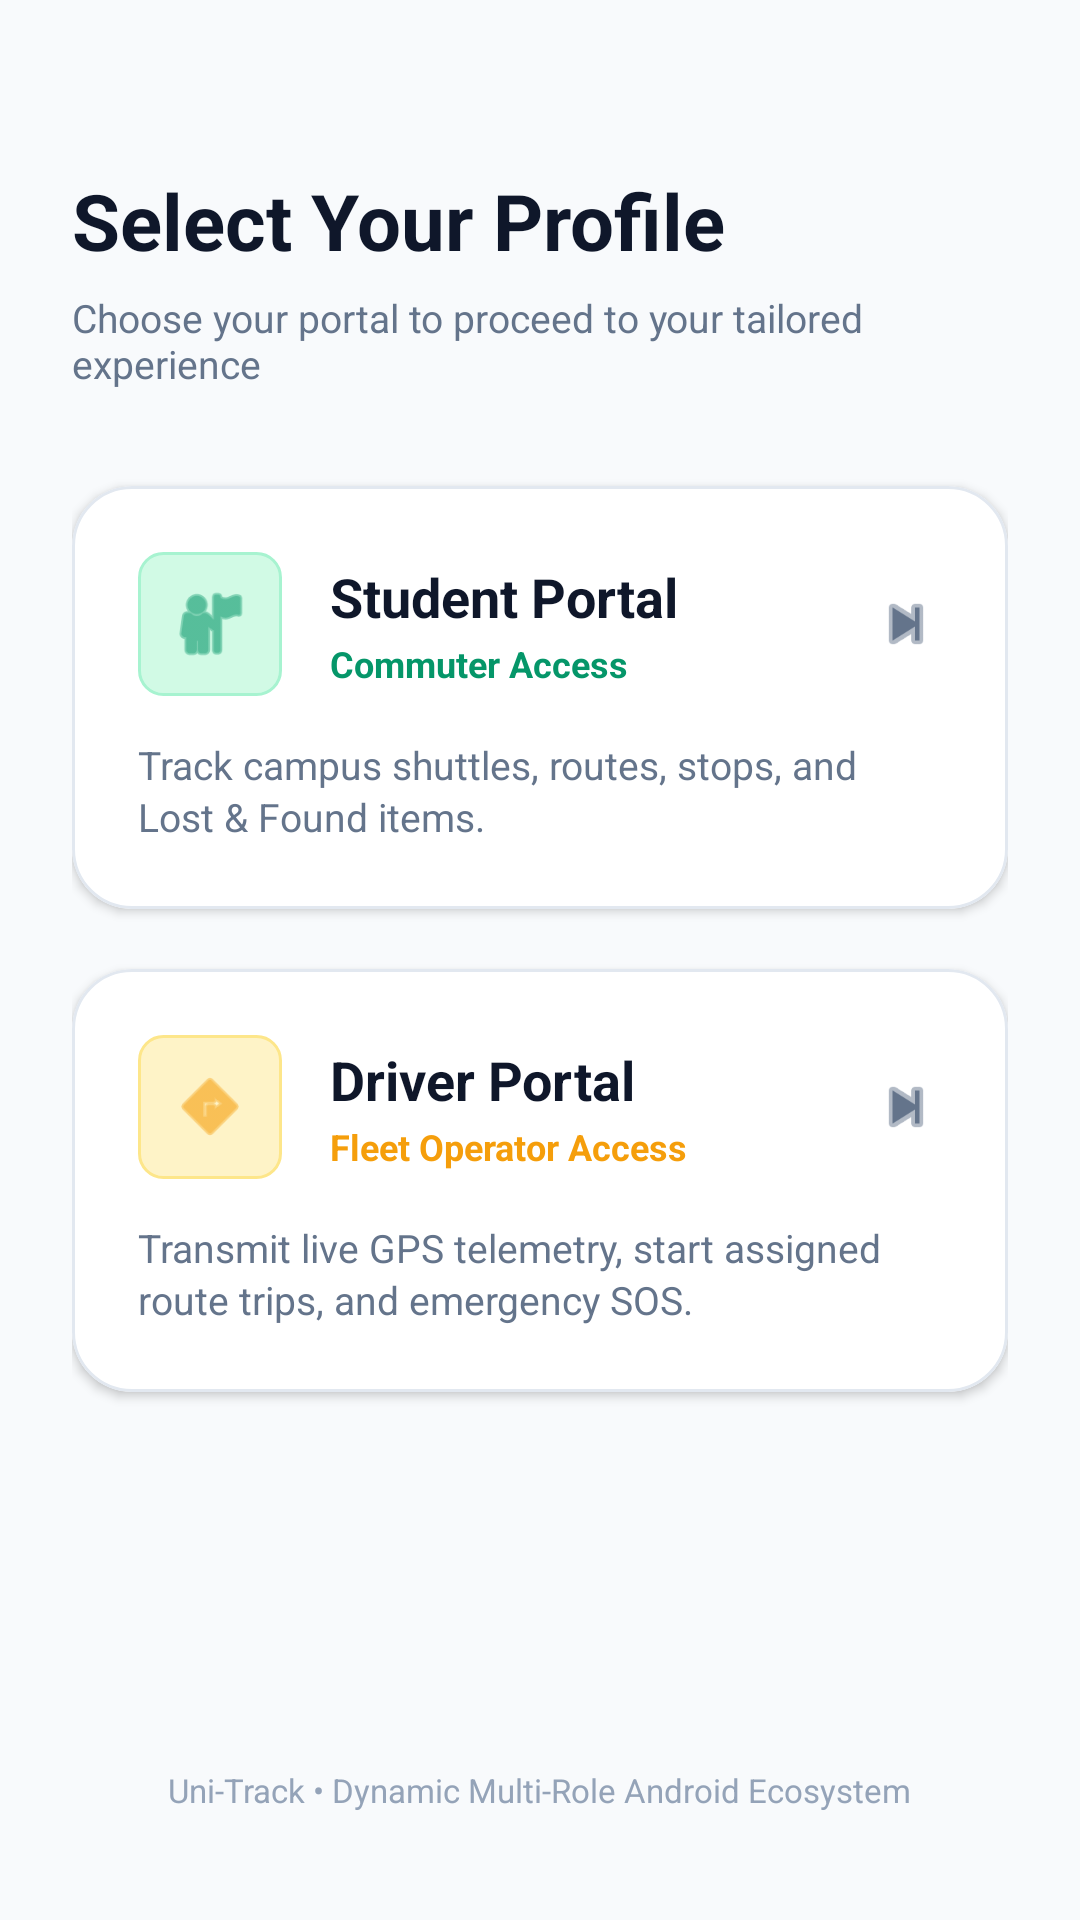

Where icons sit on this 1080px×1920px app screen, as (left=x1, top=y1, right=x2, bottom=y2):
directions: (left=138, top=1035, right=282, bottom=1179)
next: (left=889, top=604, right=923, bottom=644), (left=889, top=1087, right=923, bottom=1127)
